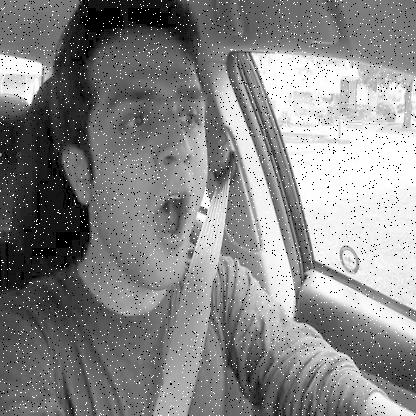seatbelt: (47, 0, 273, 416)
